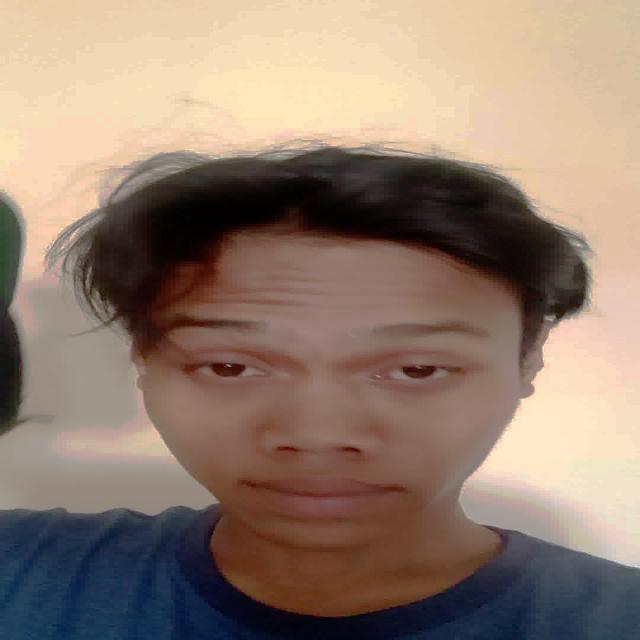TOPI: (2, 188, 49, 438)
